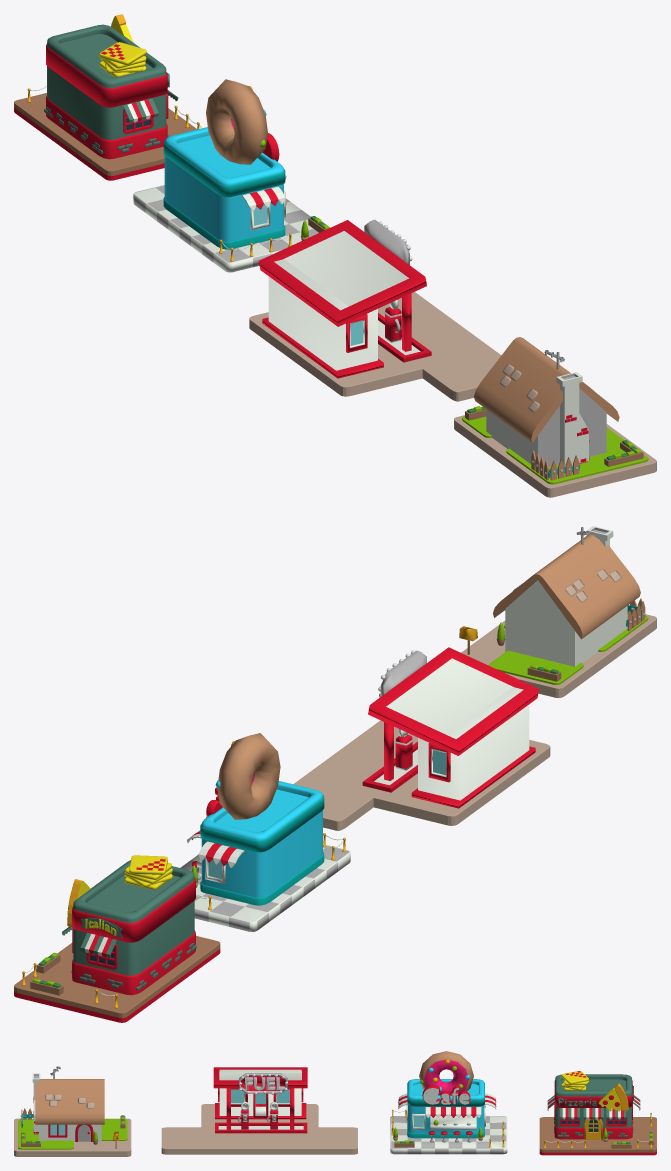
File: Houses.fbx
The picture shows the model from 3 angles, top to bottom: view 1: azimuth 30°, elevation 25°; view 2: azimuth 150°, elevation 25°; view 3: azimuth 270°, elevation 25°; orthographic projection. The views are drawn at different scales.
Visible parts, largest first — view 1: Cube.004, Cube.001, Cube, Cube.002; view 2: Cube.004, Cube.002, Cube.001, Cube; view 3: Cube.004, Cube.001, Cube.002, Cube.
Boxes of the visible parts, x1,y1,x2,y2 form: Cube.004: (249,219,501,401); Cube.001: (133,79,330,272); Cube: (454,337,656,497); Cube.002: (14,14,201,180); Cube.004: (293,647,550,830); Cube.002: (14,855,220,1022); Cube.001: (180,733,350,931); Cube: (459,526,656,697); Cube.004: (161,1067,357,1154); Cube.001: (390,1051,507,1154); Cube.002: (539,1071,656,1155); Cube: (14,1066,131,1156).
Bounding box in the file's own units: 231 × 197 × 1321.
